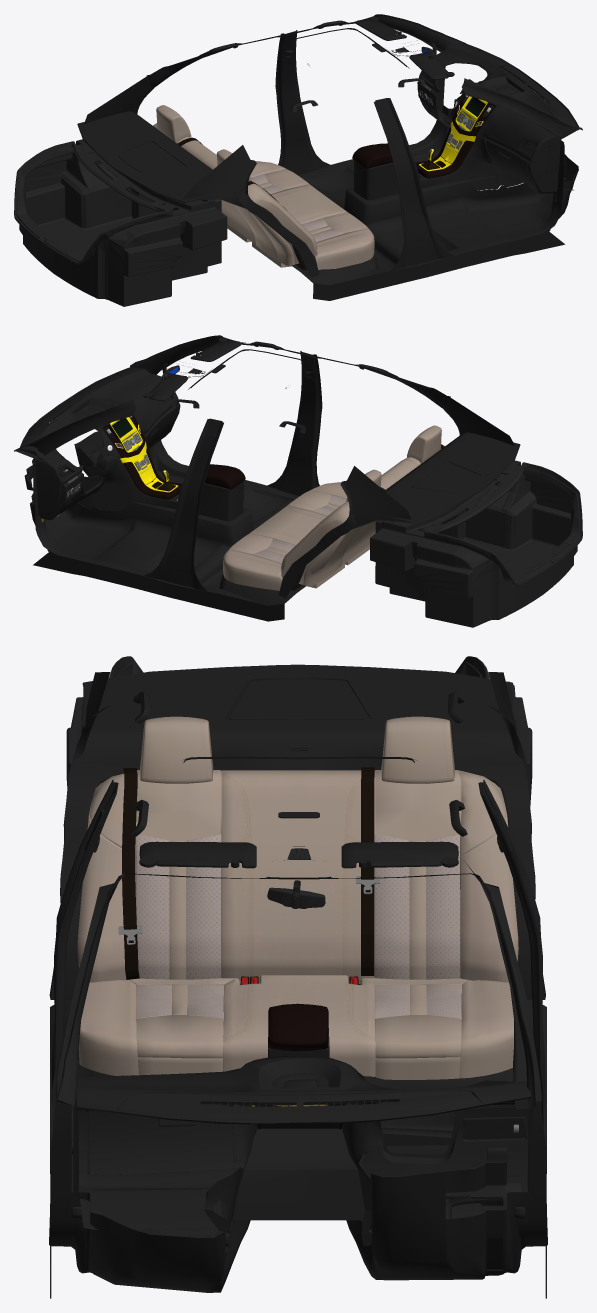
3 renders of one model, top to bottom at view 1: azimuth 30°, elevation 25°; view 2: azimuth 150°, elevation 25°; view 3: azimuth 270°, elevation 25°, orthographic. The views are drawn at different scales.
Visible parts, largest first — view 1: HZSB, HBX_CHUWU, HZ01, ZKT_01 (×2), che_FSX_GZ; view 2: HZSB, HBX_CHUWU, HZ01, ZKT_01 (×2), che_FSX_GZ; view 3: HZSB, HZ01, AQD04, che_FSX_GZ, HBX_CHUWU, HSJ007.
Part boxes in pixels (box(x1,y1,x2,y2)): HZSB: box(77, 14, 582, 300); HBX_CHUWU: box(14, 139, 227, 306); HZ01: box(153, 105, 374, 269); ZKT_01 (×2): box(415, 95, 496, 178); che_FSX_GZ: box(352, 143, 392, 168); HZSB: box(14, 335, 520, 621); HBX_CHUWU: box(370, 460, 582, 627); HZ01: box(223, 425, 444, 590); ZKT_01 (×2): box(102, 415, 182, 499); che_FSX_GZ: box(205, 464, 245, 489); HZSB: box(49, 664, 547, 1298); HZ01: box(77, 716, 518, 1079); AQD04: box(118, 767, 379, 984); che_FSX_GZ: box(268, 1003, 328, 1051); HBX_CHUWU: box(66, 656, 532, 806); HSJ007: box(267, 880, 325, 908).
Size of the model in its own units: 356 by 124 by 153.
